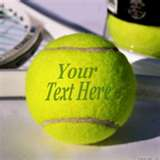tennis ball: (24, 30, 138, 149)
